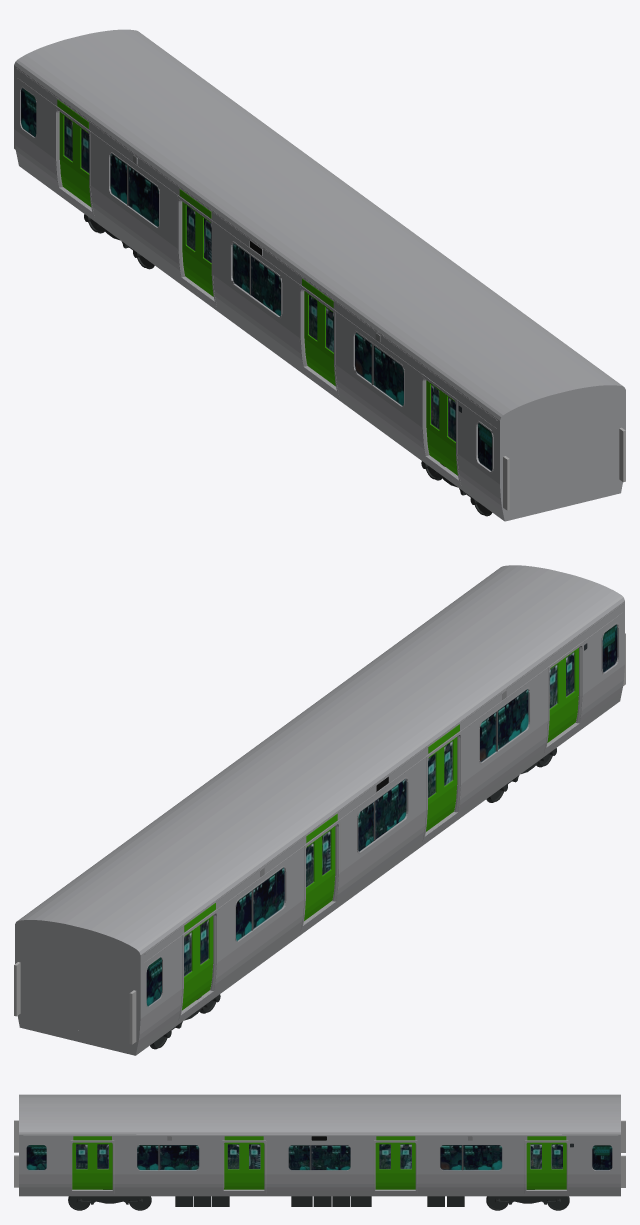
File: middle.glb
3 views of the same model, one above another, from view 1: azimuth 30°, elevation 25°; view 2: azimuth 150°, elevation 25°; view 3: azimuth 270°, elevation 25° (orthographic). The views are drawn at different scales.
Parts seen in each view (by area): view 1: 立方体.004, 立方体.061, pic, pic.001; view 2: 立方体.004, 立方体.061, pic, pic.001; view 3: 立方体.061, 立方体.004, pic.003, pic.002, 円柱.007, 円柱, 立方体.064, 立方体.003, 立方体.072, 立方体.075, 立方体.068, 立方体.074 (+1 smaller).
Boxes of the visible parts, bbox=[...] form: 立方体.004: bbox=[14, 36, 563, 521]; 立方体.061: bbox=[77, 29, 625, 506]; pic: bbox=[21, 88, 492, 470]; pic.001: bbox=[64, 116, 455, 441]; 立方体.004: bbox=[77, 572, 625, 1055]; 立方体.061: bbox=[14, 565, 561, 1041]; pic: bbox=[146, 624, 617, 1006]; pic.001: bbox=[184, 652, 574, 976]; 立方体.061: bbox=[14, 1107, 625, 1196]; 立方体.004: bbox=[14, 1094, 625, 1152]; pic.003: bbox=[26, 1145, 612, 1170]; pic.002: bbox=[76, 1144, 562, 1169]; 円柱.007: bbox=[486, 1196, 569, 1210]; 円柱: bbox=[68, 1196, 151, 1210]; 立方体.064: bbox=[75, 1196, 144, 1204]; 立方体.003: bbox=[493, 1196, 562, 1204]; 立方体.072: bbox=[350, 1196, 371, 1206]; 立方体.075: bbox=[291, 1196, 312, 1206]; 立方体.068: bbox=[193, 1196, 211, 1206]; 立方体.074: bbox=[313, 1196, 331, 1206].
Size of the model in its own units: 2.08 by 2.45 by 13.83.
Materials: 45 (5 with a texture image).
